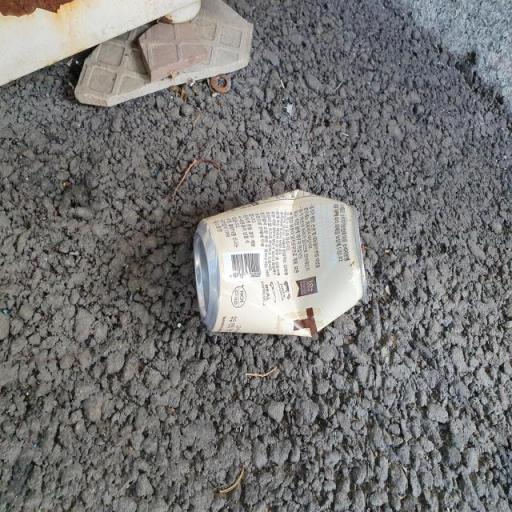metal: (171, 170, 378, 375)
